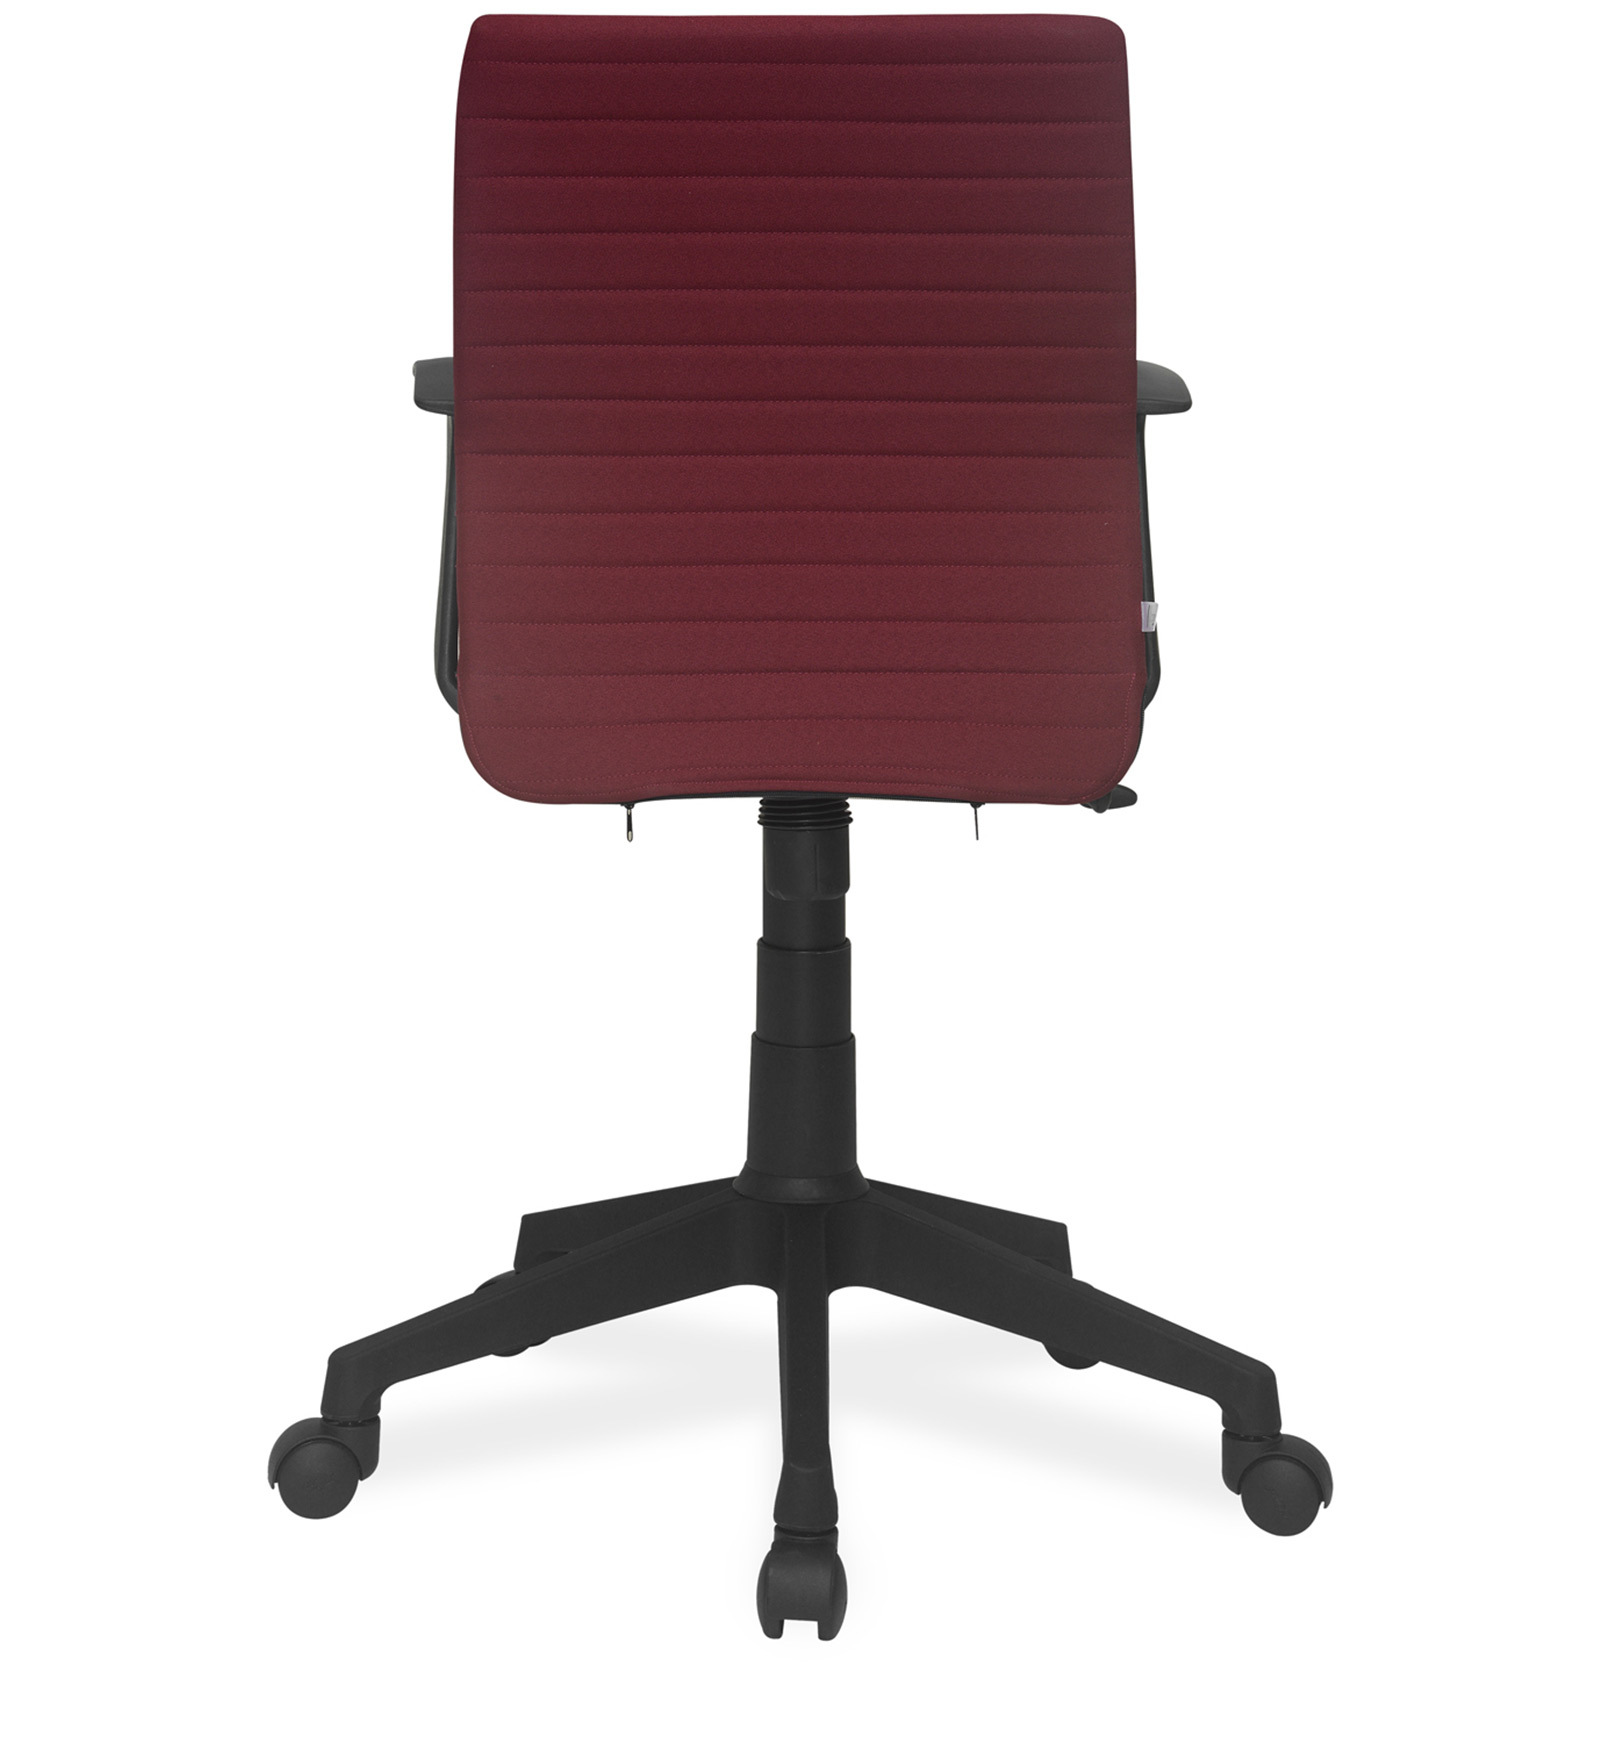Thames Low Back Ergonomic Chair in Maroon Colour by Nilkamal: (182, 9, 1474, 1660)
